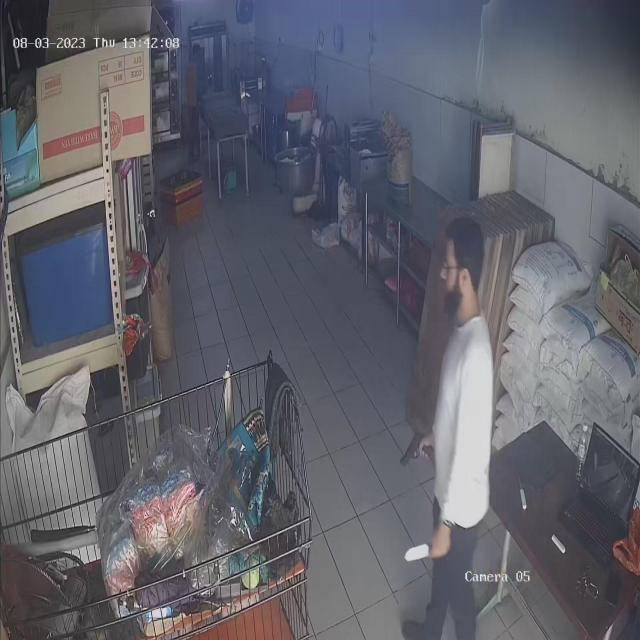Gun: (398, 420, 430, 472)
Knife: (399, 534, 452, 580)
